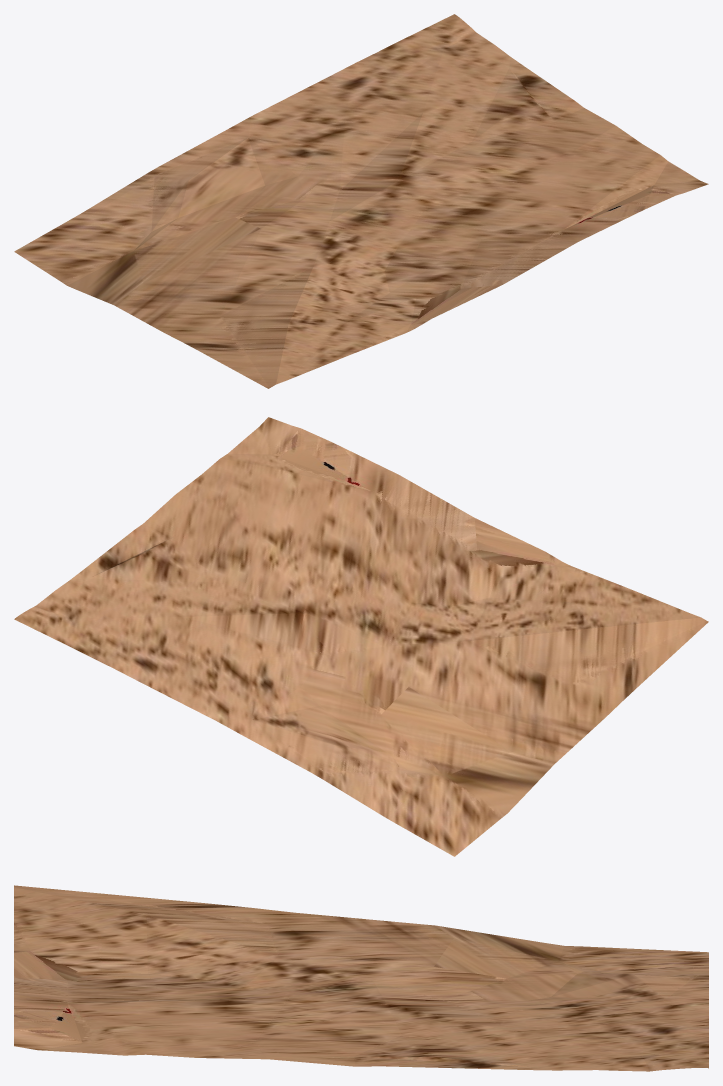
3 renders of one model, top to bottom at view 1: azimuth 30°, elevation 25°; view 2: azimuth 150°, elevation 25°; view 3: azimuth 270°, elevation 25°, orthographic. The views are drawn at different scales.
Bounding box in the file's own units: 1.04 × 0.3312 × 1.04.
3 materials, 3 textured.
